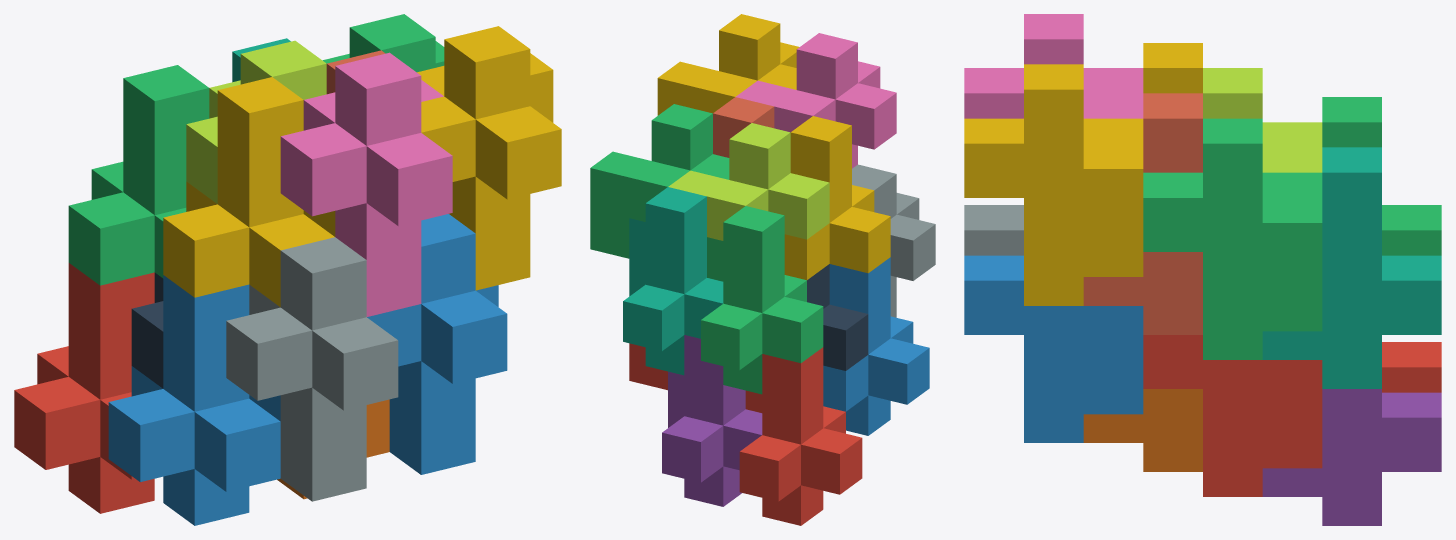
File: tiling.obj
3 renders of one model, left to right at view 1: azimuth 30°, elevation 25°; view 2: azimuth 150°, elevation 25°; view 3: azimuth 270°, elevation 25°, orthographic. The views are drawn at different scales.
Visible parts, largest first — view 1: copy_2_domain_2, copy_2_domain_4, copy_1_domain_2, copy_2_domain_8, copy_1_domain_4, copy_2_domain_6, copy_1_domain_1, copy_1_domain_3, copy_2_domain_3, copy_2_domain_7, copy_2_domain_1, copy_1_domain_6; view 2: copy_1_domain_3, copy_1_domain_1, copy_1_domain_7, copy_1_domain_5, copy_1_domain_2, copy_1_domain_4, copy_2_domain_7, copy_2_domain_4, copy_2_domain_3, copy_2_domain_8, copy_2_domain_2, copy_2_domain_1 (+2 smaller); view 3: copy_2_domain_7, copy_2_domain_8, copy_1_domain_7, copy_2_domain_6, copy_2_domain_5, copy_1_domain_5, copy_1_domain_8, copy_2_domain_4, copy_1_domain_6, copy_2_domain_3, copy_1_domain_3, copy_1_domain_1 (+2 smaller).
Part boxes in pixels (x1,y1,x2,y2): copy_2_domain_2: [226, 237, 398, 501]; copy_2_domain_4: [280, 52, 452, 316]; copy_1_domain_2: [108, 275, 280, 525]; copy_2_domain_8: [417, 26, 561, 290]; copy_1_domain_4: [163, 77, 335, 306]; copy_2_domain_6: [367, 214, 507, 474]; copy_1_domain_1: [14, 263, 154, 513]; copy_1_domain_3: [68, 65, 209, 285]; copy_2_domain_3: [186, 40, 326, 203]; copy_2_domain_7: [322, 14, 444, 72]; copy_2_domain_1: [131, 272, 163, 388]; copy_1_domain_6: [277, 399, 389, 499]; copy_1_domain_3: [701, 206, 823, 394]; copy_1_domain_1: [739, 347, 862, 525]; copy_1_domain_7: [623, 187, 723, 375]; copy_1_domain_5: [662, 335, 762, 506]; copy_1_domain_2: [823, 257, 929, 435]; copy_1_domain_4: [784, 116, 890, 280]; copy_2_domain_7: [590, 104, 729, 258]; copy_2_domain_4: [736, 33, 896, 168]; copy_2_domain_3: [668, 123, 829, 240]; copy_2_domain_8: [657, 14, 799, 115]; copy_2_domain_2: [852, 164, 935, 317]; copy_2_domain_1: [807, 264, 868, 370]; copy_2_domain_7: [1143, 118, 1322, 359]; copy_2_domain_8: [964, 64, 1143, 305]; copy_1_domain_7: [1262, 147, 1441, 388]; copy_2_domain_6: [964, 255, 1143, 442]; copy_2_domain_5: [1143, 335, 1322, 496]; copy_1_domain_5: [1262, 389, 1441, 525]; copy_1_domain_8: [1083, 93, 1202, 334]; copy_2_domain_4: [964, 14, 1143, 118]; copy_1_domain_6: [1083, 389, 1202, 471]; copy_2_domain_3: [1203, 68, 1322, 172]; copy_1_domain_3: [1322, 97, 1441, 255]; copy_1_domain_1: [1382, 342, 1441, 392].
Size of the model in its own units: 7 by 9 by 8.
